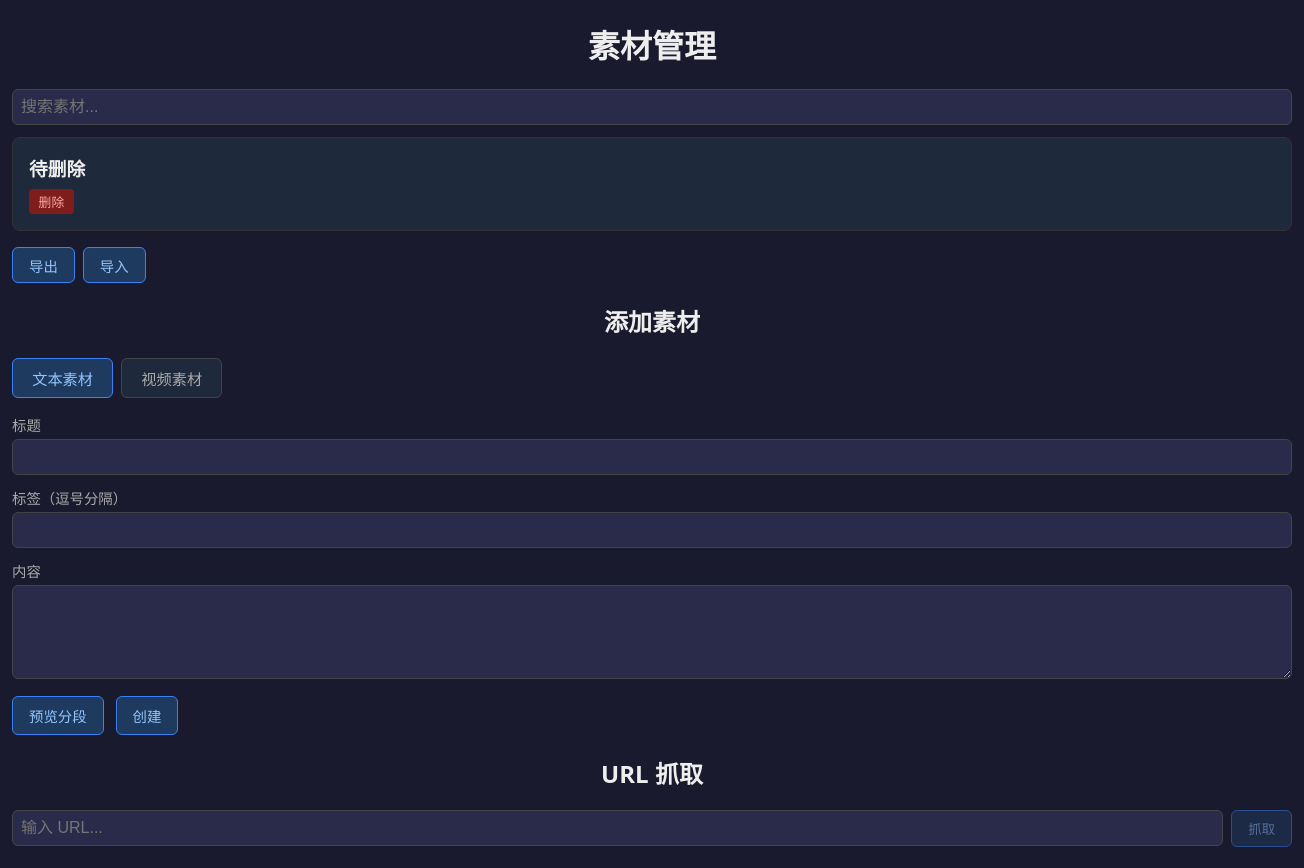
Test: AdminPage — delete › delete button shows confirm/cancel, then confirm removes material
click delete → shows confirm/cancel
Click the button with class "btn-delete" at (51, 202), box [29,189,74,214]
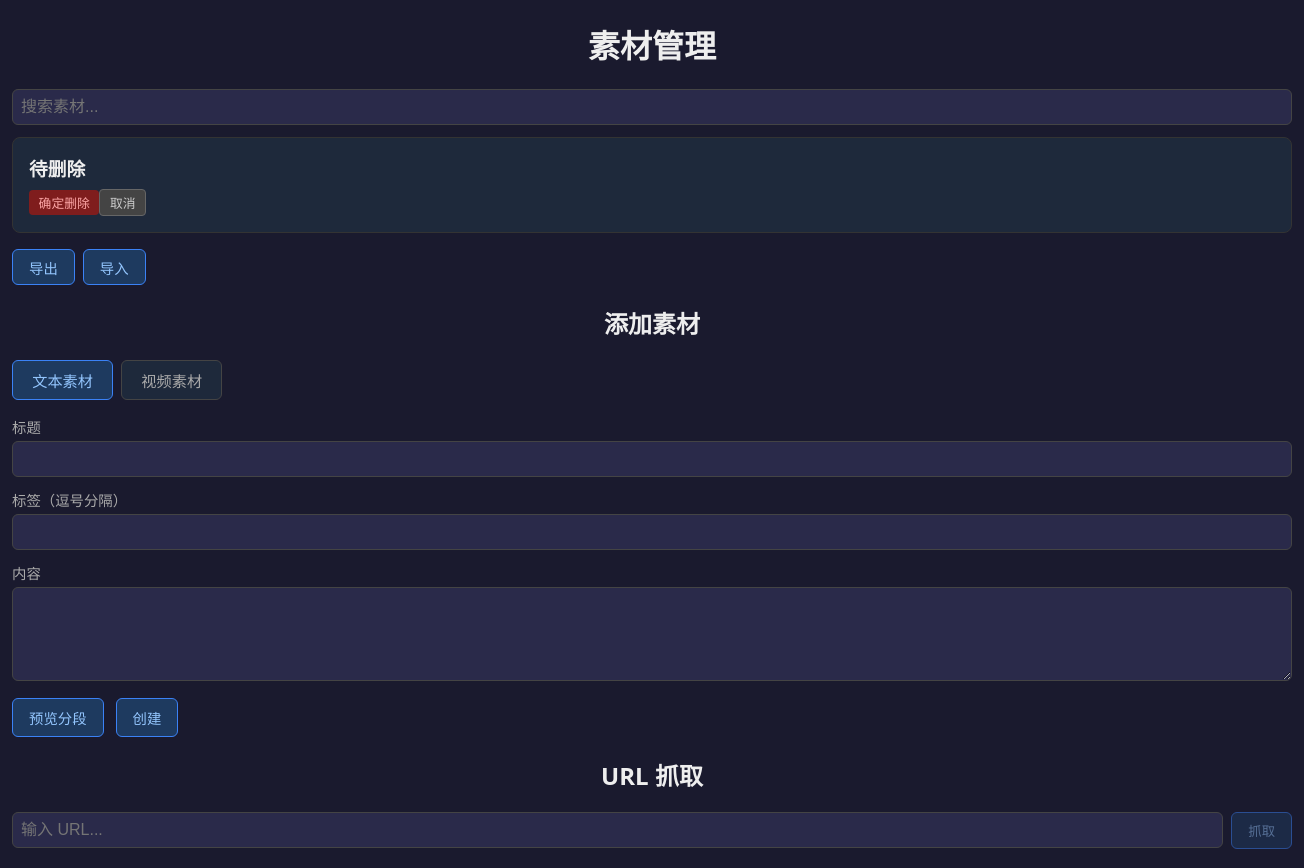
Check: the button with class "btn-confirm-action" is shown
Check: the button with class "btn-cancel-action" is shown, box [99,189,146,216]
click confirm → deletes and refreshes
Click the button with class "btn-confirm-action" at (64, 203), box [29,190,99,215]
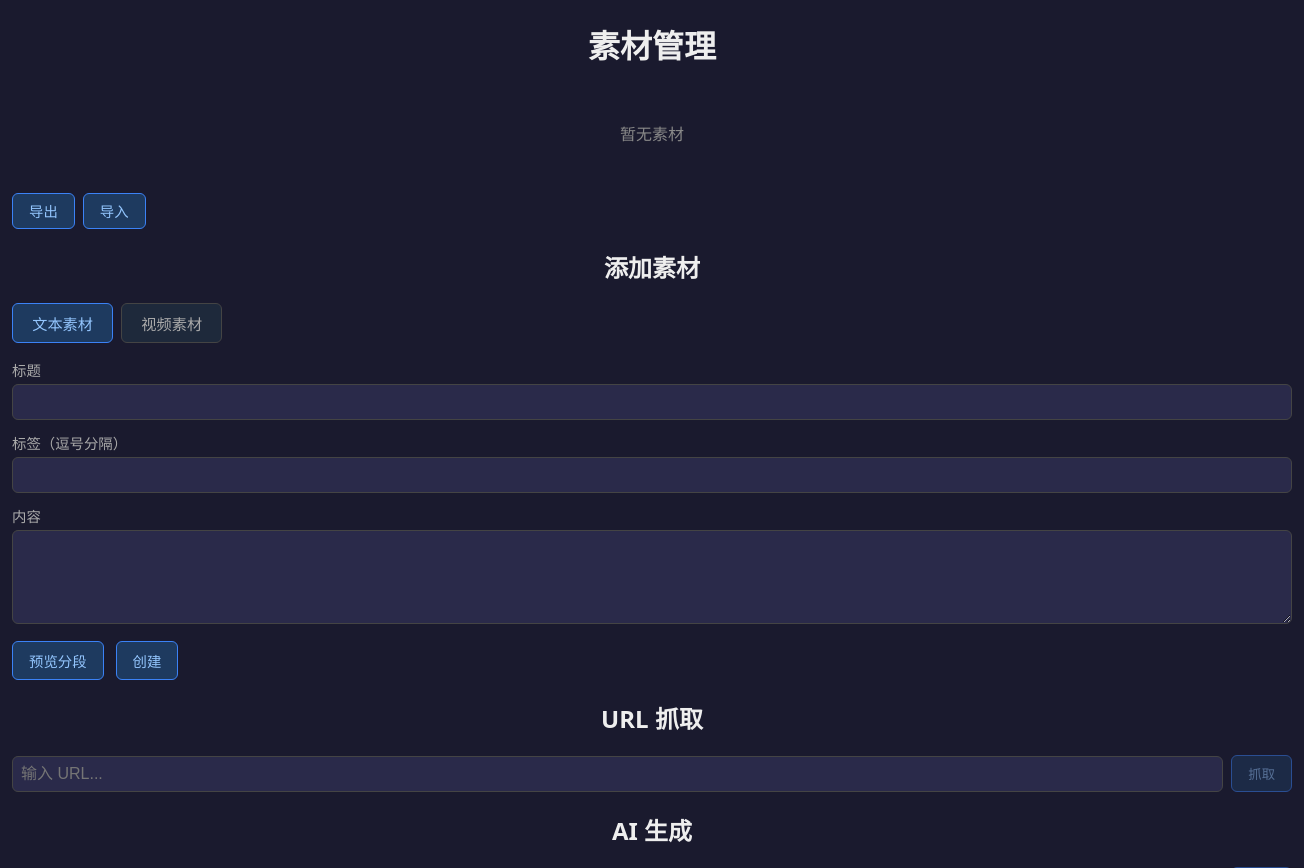
Check: the text "暂无素材" is shown, box [620,123,684,145]
